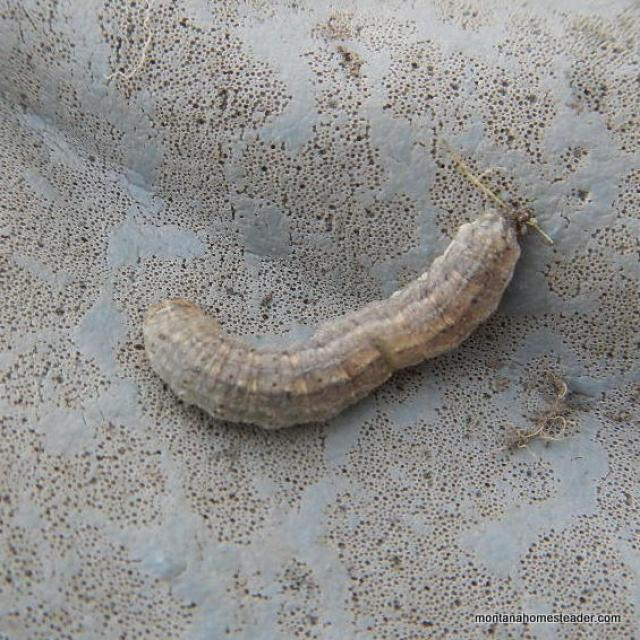Cutworm: (131, 205, 528, 442)
